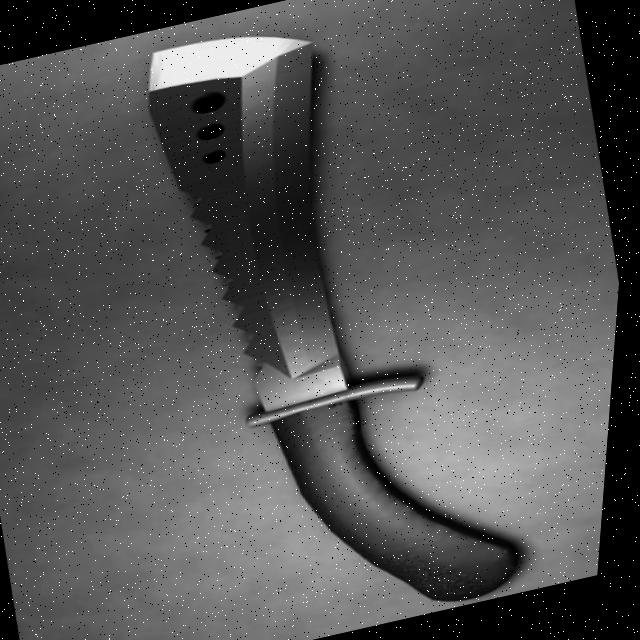knife: (106, 0, 568, 640)
